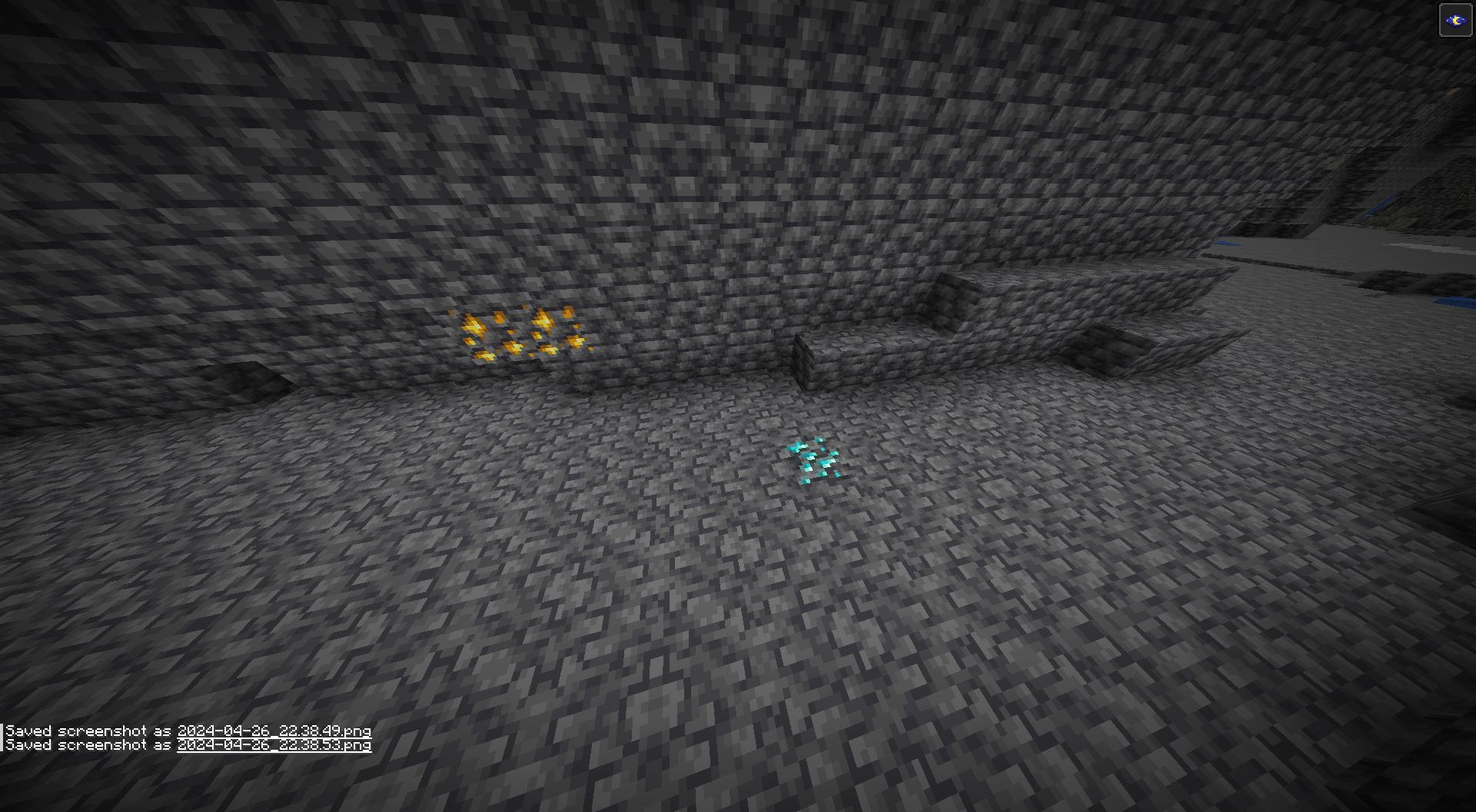diamond ore: (787, 436, 846, 484)
gold ore: (441, 303, 533, 362), (519, 300, 595, 358)
